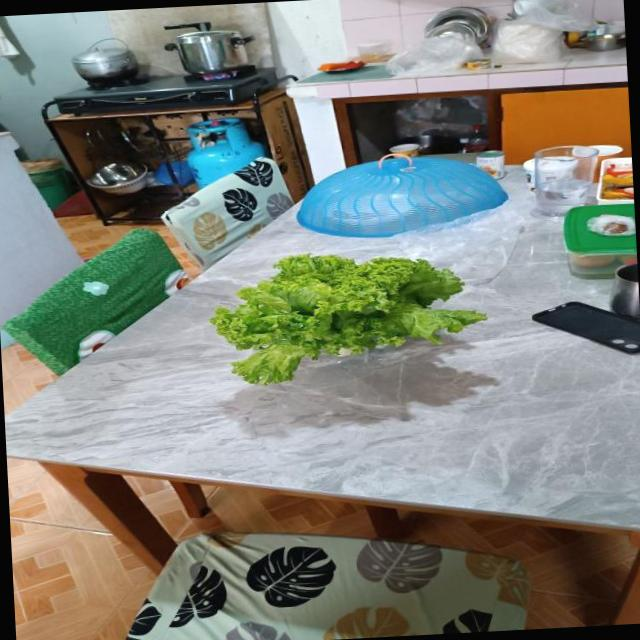Lettuce-Ready-to-Harvest: (211, 255, 485, 384)
